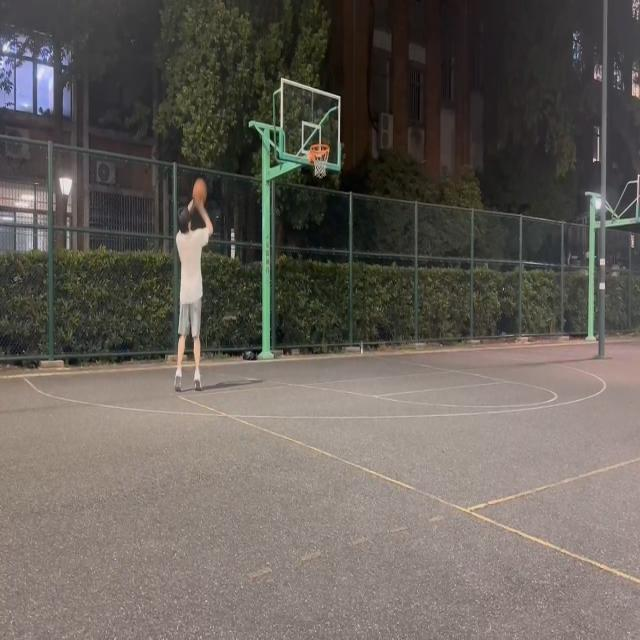basketball: (310, 144, 330, 178)
rim: (193, 178, 207, 206)
